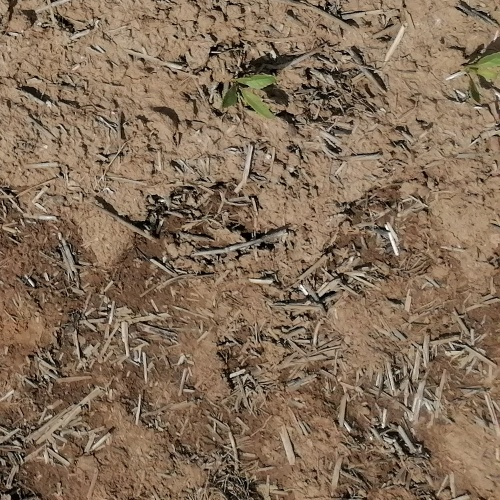beet: (220, 72, 276, 120), (468, 46, 500, 103)
